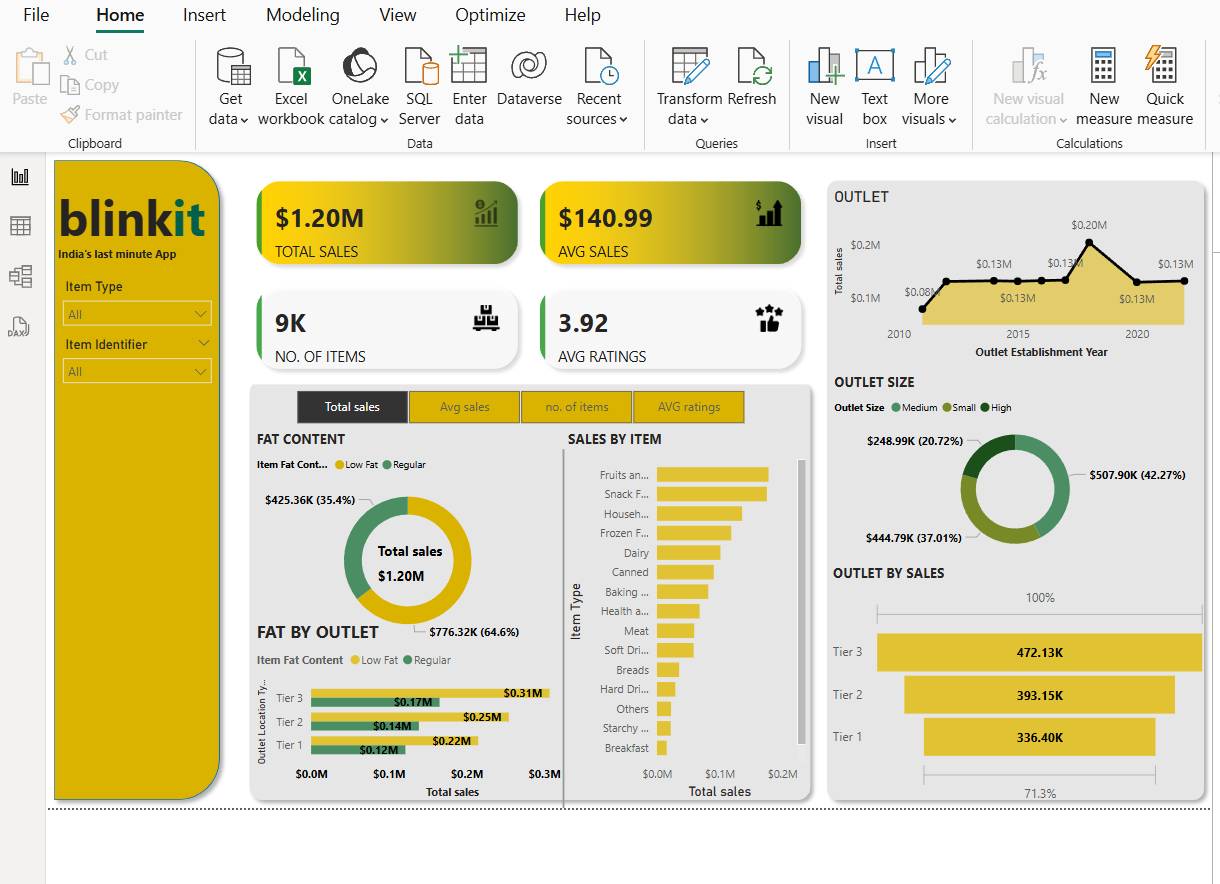

What the dashboard file says about the page in this screenshot:
{"tool":"powerbi","page":{"name":"Page 1","canvas":[1280,720],"ordinal":0},"visuals":[{"type":"shape","box":[214.1,241.5,634,478.9],"z":0},{"type":"shape","box":[848,22,432.2,698.5],"z":1000},{"type":"shape","box":[0,0,200,720.4],"z":2000},{"type":"slicer","fields":{"Values":["Metrices.Metrices"]},"box":[249.7,255.2,540.7,49.4],"z":3000},{"type":"textbox","box":[8.2,30.2,183.9,85.1],"z":4000},{"type":"donutChart","title":"FAT CONTENT","fields":{"Y":["BlinkIT Grocery Data.Total sales"],"Category":["BlinkIT Grocery Data.Item Fat Content"]},"box":[226.4,304.6,341.7,240.1],"z":5000,"group":"g1"},{"type":"clusteredBarChart","title":"FAT BY OUTLET","fields":{"Y":["BlinkIT Grocery Data.Total sales"],"Category":["BlinkIT Grocery Data.Outlet Location Type"],"Series":["BlinkIT Grocery Data.Item Fat Content"]},"box":[226.4,513.2,397.9,201.7],"z":5000},{"type":"donutChart","title":"OUTLET SIZE","fields":{"Y":["BlinkIT Grocery Data.Total sales"],"Category":["BlinkIT Grocery Data.Outlet Size"]},"box":[860.4,241.5,407.5,209.9],"z":6000},{"type":"cardVisual","fields":{"Data":["BlinkIT Grocery Data.Total sales"]},"box":[346.9,405.5,173,90.7],"z":6002,"group":"g1"},{"type":"textbox","box":[8.2,97.4,157.8,37],"z":7000},{"type":"barChart","title":"SALES BY ITEM","fields":{"Y":["BlinkIT Grocery Data.Total sales"],"Category":["BlinkIT Grocery Data.Item Type"]},"box":[568.1,304.6,270.3,410.3],"z":8000},{"type":"cardVisual","fields":{"Data":["BlinkIT Grocery Data.Total sales","BlinkIT Grocery Data.Avg sales","BlinkIT Grocery Data.no. of items","BlinkIT Grocery Data.AVG ratings"]},"box":[214.1,15.1,634,240.1],"z":9000},{"type":"lineChart","title":"OUTLET","fields":{"Y":["BlinkIT Grocery Data.Total sales"],"Category":["BlinkIT Grocery Data.Outlet Establishment Year"]},"box":[860.4,38.4,407.5,193.5],"z":10000},{"type":"shape","box":[522.8,326.6,90.6,393.8],"z":11000},{"type":"group","id":"g1","title":"Group 1","box":[226.4,304.6,341.7,240.1],"z":12000},{"type":"funnel","title":"OUTLET BY SALES","fields":{"Y":["Sum(BlinkIT Grocery Data.Sales)"],"Category":["BlinkIT Grocery Data.Outlet Location Type"]},"box":[859.6,451.1,420.4,268.9],"z":12001},{"type":"slicer","fields":{"Values":["BlinkIT Grocery Data.Item Type"]},"box":[8.2,134.5,183.9,83.7],"z":12002},{"type":"slicer","fields":{"Values":["BlinkIT Grocery Data.Item Identifier"]},"box":[8.2,197.6,183.9,57.6],"z":12003}]}

Visuals, with their boxes in screenshot pixels (x1, y1, x2, y2):
shape: select_region(239, 371, 813, 806)
shape: select_region(813, 172, 1205, 806)
shape: select_region(45, 152, 226, 806)
slicer - Metrices.Metrices: select_region(271, 384, 761, 429)
textbox: select_region(52, 180, 219, 257)
"FAT CONTENT" donutChart: select_region(250, 429, 560, 646)
"FAT BY OUTLET" clusteredBarChart: select_region(250, 618, 611, 801)
"OUTLET SIZE" donutChart: select_region(825, 371, 1194, 562)
cardVisual - BlinkIT Grocery Data.Total sales: select_region(359, 520, 516, 602)
textbox: select_region(52, 241, 195, 274)
"SALES BY ITEM" barChart: select_region(560, 429, 805, 801)
cardVisual - BlinkIT Grocery Data.Total sales x BlinkIT Grocery Data.Avg sales: select_region(239, 166, 813, 384)
"OUTLET" lineChart: select_region(825, 187, 1194, 363)
shape: select_region(519, 449, 601, 806)
"Group 1" group: select_region(250, 429, 560, 646)
"OUTLET BY SALES" funnel: select_region(824, 562, 1205, 806)
slicer - BlinkIT Grocery Data.Item Type: select_region(52, 274, 219, 350)
slicer - BlinkIT Grocery Data.Item Identifier: select_region(52, 332, 219, 384)
